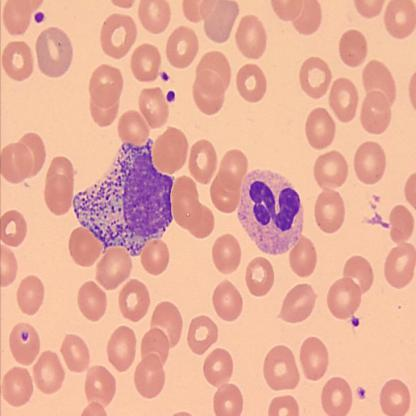Myelocyte: (72, 142, 174, 255), (236, 171, 304, 254)
